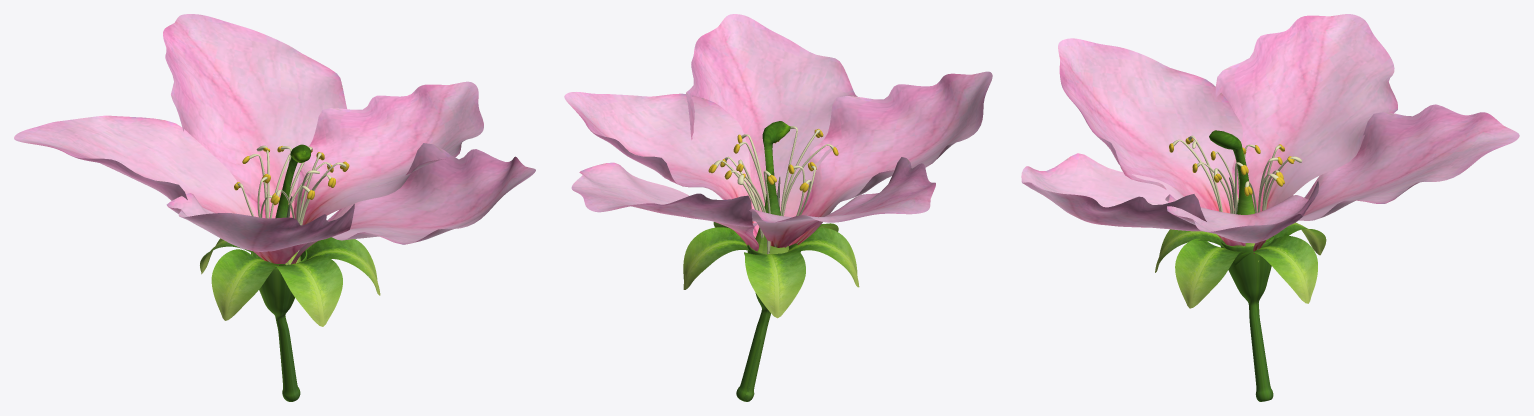
The model's file is taohua2.fbx.
3 views of the same model, side by side, from view 1: azimuth 30°, elevation 25°; view 2: azimuth 150°, elevation 25°; view 3: azimuth 270°, elevation 25° (orthographic). The views are drawn at different scales.
Parts seen in each view (by area): view 1: polySurface28, polySurface26, polySurface27, polySurface22, polySurface24, polySurface19, polySurface7, polySurface1, polySurface18, ads1, ads14; view 2: polySurface22, polySurface24, polySurface26, polySurface28, polySurface27, polySurface16, polySurface17, polySurface7, ads1, polySurface1, ads15, ads14 (+1 smaller); view 3: polySurface27, polySurface24, polySurface28, polySurface22, polySurface26, polySurface1, polySurface18, polySurface17, ads1, polySurface19, polySurface16, ads15.
Boxes of the visible parts, x1,y1,x2,y2 form: polySurface28: [163, 14, 346, 218]; polySurface26: [294, 81, 483, 225]; polySurface27: [14, 115, 258, 217]; polySurface22: [291, 143, 535, 264]; polySurface24: [166, 193, 354, 265]; polySurface19: [273, 255, 342, 326]; polySurface7: [211, 249, 285, 320]; polySurface1: [251, 250, 307, 401]; polySurface18: [300, 237, 380, 295]; ads1: [275, 144, 310, 265]; ads14: [249, 145, 289, 218]; polySurface22: [686, 14, 857, 237]; polySurface24: [788, 71, 992, 246]; polySurface26: [564, 92, 753, 230]; polySurface28: [571, 162, 758, 251]; polySurface27: [749, 157, 935, 247]; polySurface16: [744, 250, 805, 318]; polySurface17: [683, 227, 750, 289]; polySurface7: [788, 227, 859, 287]; ads1: [755, 121, 790, 254]; polySurface1: [736, 237, 800, 401]; ads15: [780, 126, 833, 216]; ads14: [730, 170, 770, 254]; polySurface27: [1215, 14, 1397, 211]; polySurface24: [1058, 38, 1242, 213]; polySurface28: [1253, 104, 1519, 253]; polySurface22: [1021, 153, 1245, 246]; polySurface26: [1165, 181, 1318, 243]; polySurface1: [1220, 235, 1274, 401]; polySurface18: [1175, 238, 1247, 308]; polySurface17: [1234, 236, 1317, 303]; ads1: [1209, 130, 1258, 261]; polySurface19: [1155, 229, 1225, 272]; polySurface16: [1265, 222, 1326, 255]; ads15: [1172, 135, 1222, 211].
Size of the model in its own units: 17.52 by 11.99 by 18.65.
